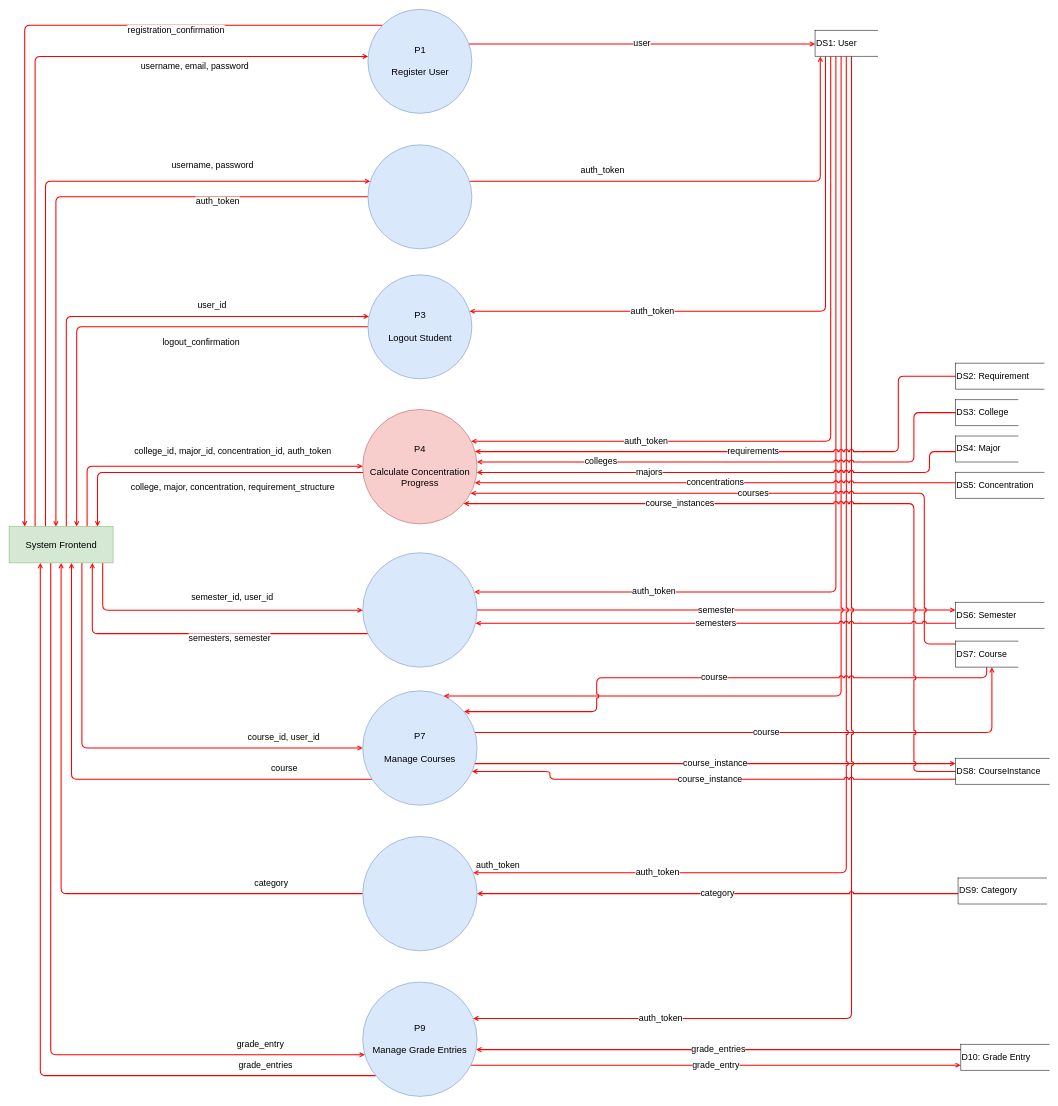
Some shapes in this 1058 by 1106 pixel diagram are drawn without their labels. The centre of each missing label's shape, as x and y in pixels:
"P2 Authenticate Student" goes at [419,196].
"P6 Manage Semesters" goes at [419,609].
"P8 Manage Categories" goes at [419,893].
